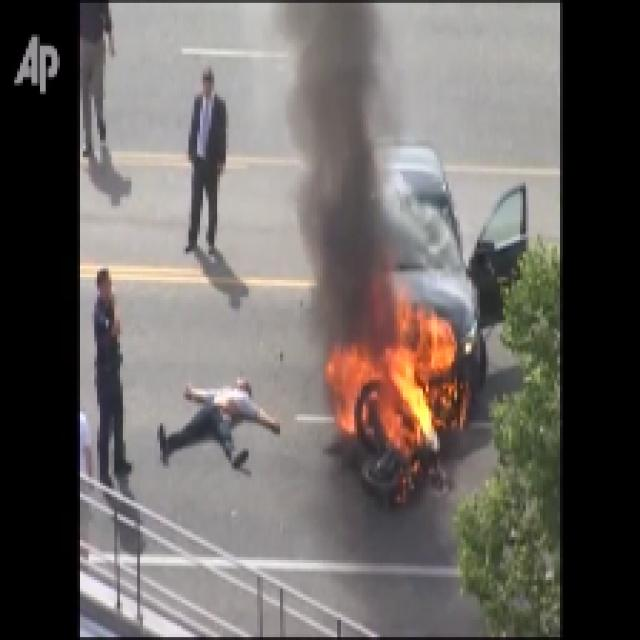fire: (332, 339, 459, 444)
smoke: (278, 4, 395, 334)
